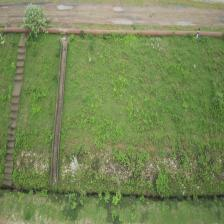slope drain: (50, 37, 70, 185)
